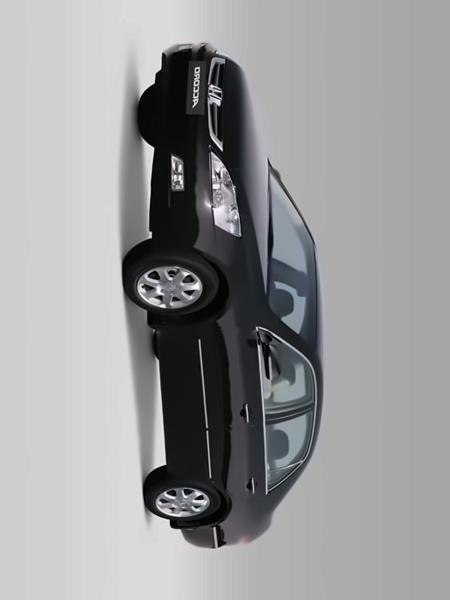Car hood: (222, 52, 275, 297)
Fender - -F-L-: (158, 236, 277, 338)
Fender - -R-L-: (174, 475, 287, 551)
Front bumper: (145, 38, 220, 261)
Headlight - -L-: (202, 142, 246, 247)
Passenger-s door - -F-L-: (168, 329, 325, 427)
Passenger-s door - -R-L-: (170, 429, 327, 502)
Rear bumper: (180, 516, 227, 565)
Side bumper - -L-: (150, 321, 192, 497)
Side mirror - -L-: (249, 320, 285, 392)
